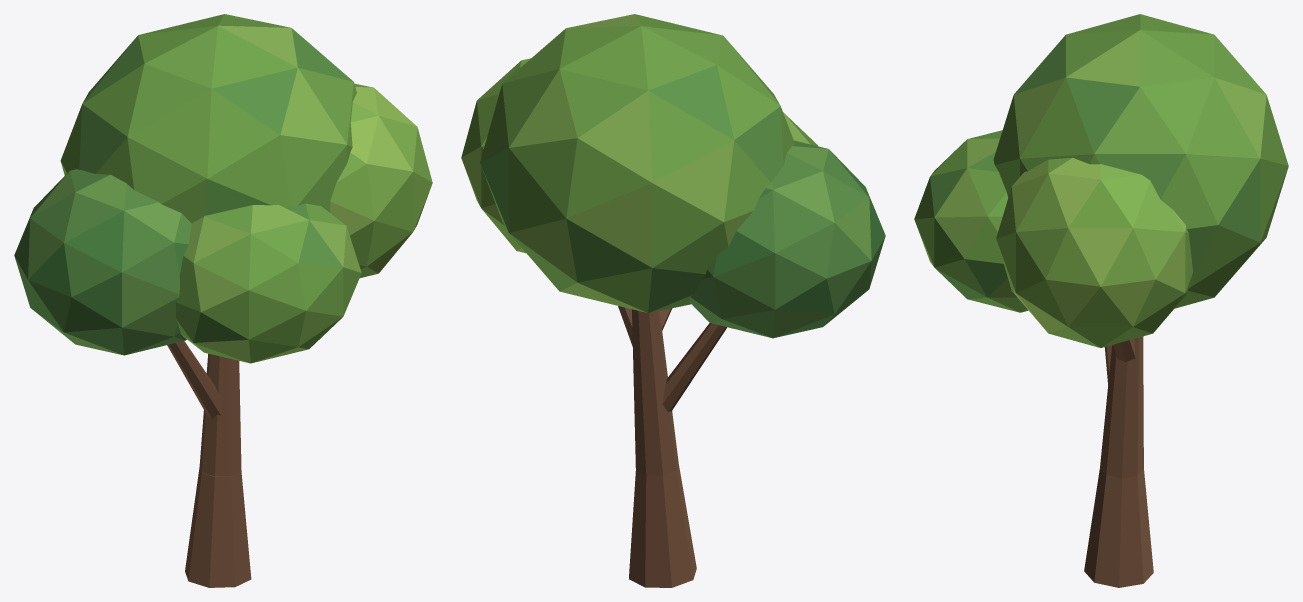
File: tree.glb
The picture shows the model from 3 angles, left to right: view 1: azimuth 30°, elevation 25°; view 2: azimuth 150°, elevation 25°; view 3: azimuth 270°, elevation 25°; orthographic projection. The views are drawn at different scales.
Visible parts, largest first — view 1: TinyWorld Broadleaf Tree; view 2: TinyWorld Broadleaf Tree; view 3: TinyWorld Broadleaf Tree.
Boxes of the visible parts, box(x1,y1,x2,y2) form: TinyWorld Broadleaf Tree: box(14, 14, 432, 587); TinyWorld Broadleaf Tree: box(461, 14, 885, 587); TinyWorld Broadleaf Tree: box(914, 14, 1288, 587).
Size of the model in its own units: 3.01 by 3.99 by 2.47.
